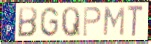B: (16, 6, 39, 38)
G: (39, 6, 60, 38)
M: (102, 6, 126, 37)
P: (82, 6, 102, 38)
Q: (60, 6, 81, 38)
T: (127, 5, 145, 39)
